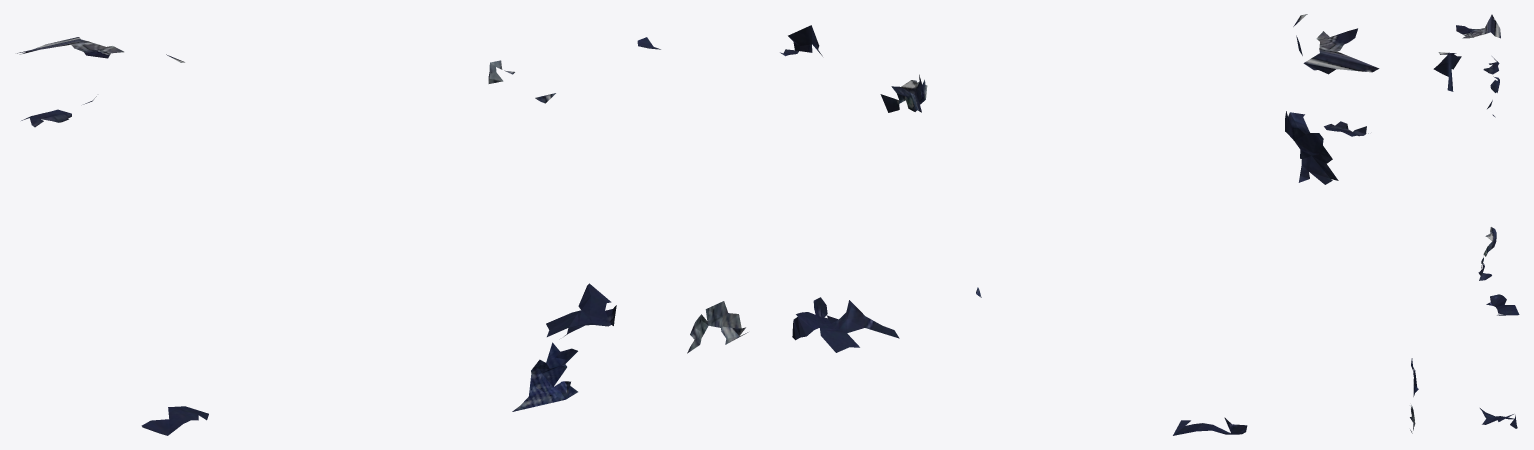
File: hero-hauptbahnhof-3890_58207-material-3.glb
The picture shows the model from 3 angles, left to right: view 1: azimuth 30°, elevation 25°; view 2: azimuth 150°, elevation 25°; view 3: azimuth 270°, elevation 25°; orthographic projection. The views are drawn at different scales.
Parts seen in each view (by area): view 1: world; view 2: world; view 3: world.
Boxes of the visible parts, x1,y1,x2,y2 form: world: (17,37,748,435); world: (780,14,1379,435); world: (1410,14,1519,433).
Size of the model in its own units: 76.44 by 46.74 by 18.71.
1 material, 1 textured.
